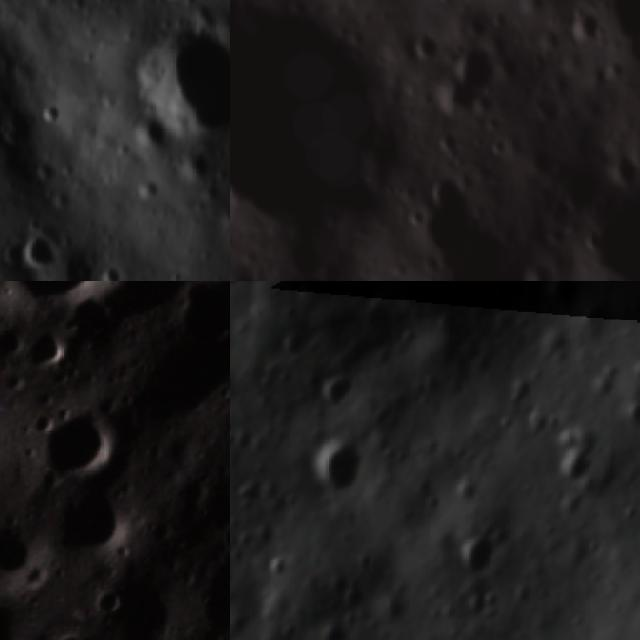crater: (230, 0, 401, 238), (230, 281, 628, 354), (19, 386, 135, 501), (132, 17, 230, 148), (34, 468, 144, 581), (0, 281, 174, 350), (168, 531, 230, 640), (585, 185, 640, 281), (10, 325, 81, 396), (305, 432, 373, 503), (593, 0, 640, 79), (549, 430, 605, 492), (449, 531, 504, 586), (80, 574, 134, 628), (412, 165, 472, 213), (0, 316, 40, 384), (454, 35, 499, 88), (15, 224, 60, 273), (122, 108, 174, 149), (460, 581, 502, 629), (320, 370, 358, 414), (586, 366, 624, 409), (407, 23, 444, 64), (543, 281, 584, 317), (453, 468, 486, 511), (306, 615, 360, 640), (327, 566, 355, 608), (270, 548, 296, 583), (40, 96, 68, 124), (622, 393, 640, 436), (279, 329, 305, 358), (235, 524, 255, 555), (496, 409, 515, 435), (429, 0, 464, 10), (230, 281, 250, 294)
